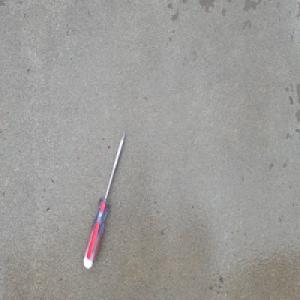Screwdriver: (82, 129, 126, 270)
